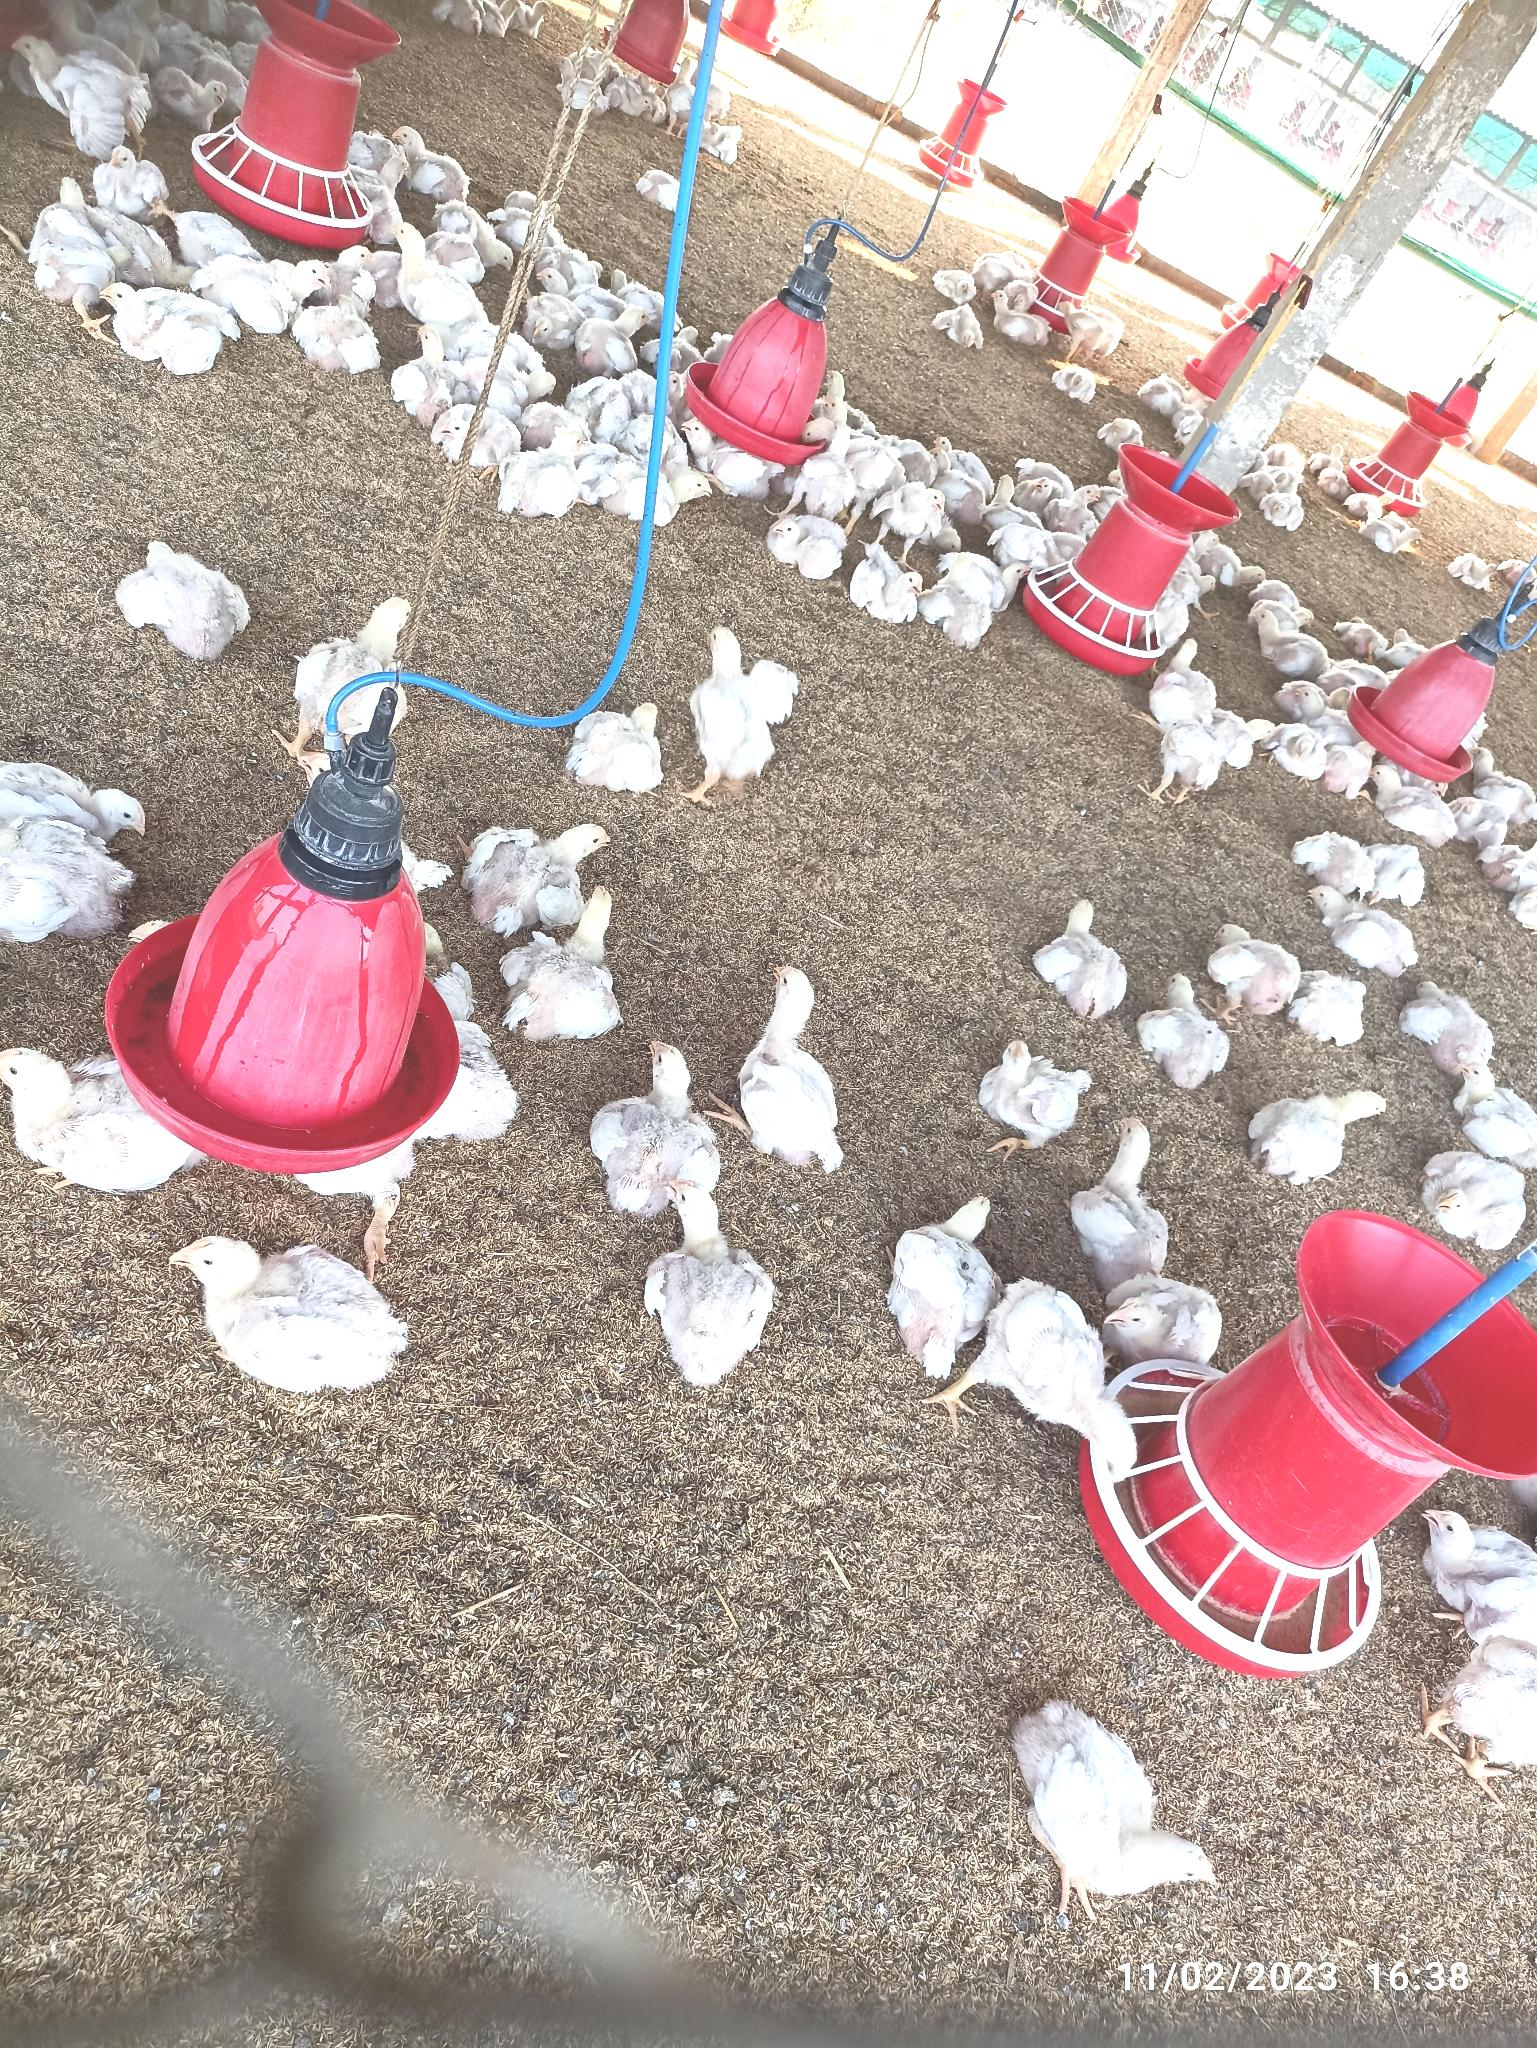Pollos: (1003, 1683, 1224, 1911), (176, 1231, 400, 1393), (6, 1025, 216, 1180), (735, 952, 856, 1165), (652, 1193, 785, 1377), (509, 891, 641, 1051), (680, 625, 802, 791), (898, 1189, 1011, 1369), (6, 747, 157, 867), (113, 536, 245, 667), (1418, 1496, 1537, 1630), (1246, 1080, 1397, 1186), (609, 1034, 702, 1193), (90, 273, 237, 373), (13, 24, 140, 134), (983, 1031, 1090, 1149), (1301, 878, 1430, 975), (1091, 1125, 1174, 1275), (1430, 1139, 1531, 1262), (463, 804, 591, 891), (920, 547, 1033, 642), (1040, 891, 1120, 1018), (1363, 760, 1464, 860), (1114, 1280, 1227, 1365), (300, 273, 384, 382), (1442, 1049, 1537, 1143), (1150, 707, 1240, 804), (572, 704, 672, 791), (387, 115, 481, 205), (1161, 965, 1224, 1094), (1221, 922, 1287, 1022), (103, 136, 182, 218), (768, 507, 844, 583), (512, 436, 576, 523), (1246, 607, 1324, 673), (1271, 717, 1324, 791)
